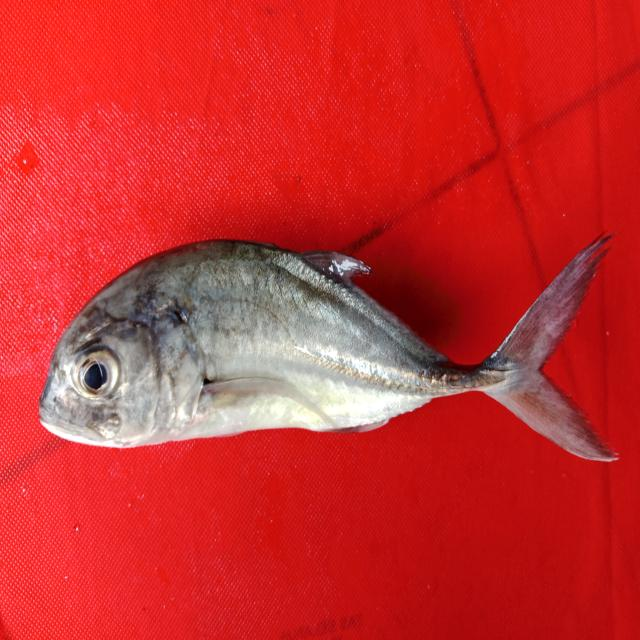ikan: (38, 228, 620, 463)
